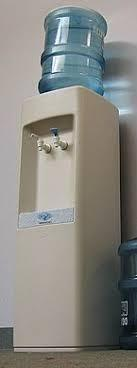Dispenser: (11, 5, 122, 352)
